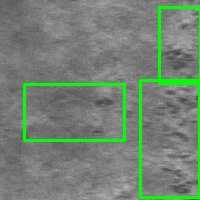rolled-in_scale: (140, 80, 199, 197), (24, 84, 124, 140), (159, 7, 200, 83)
